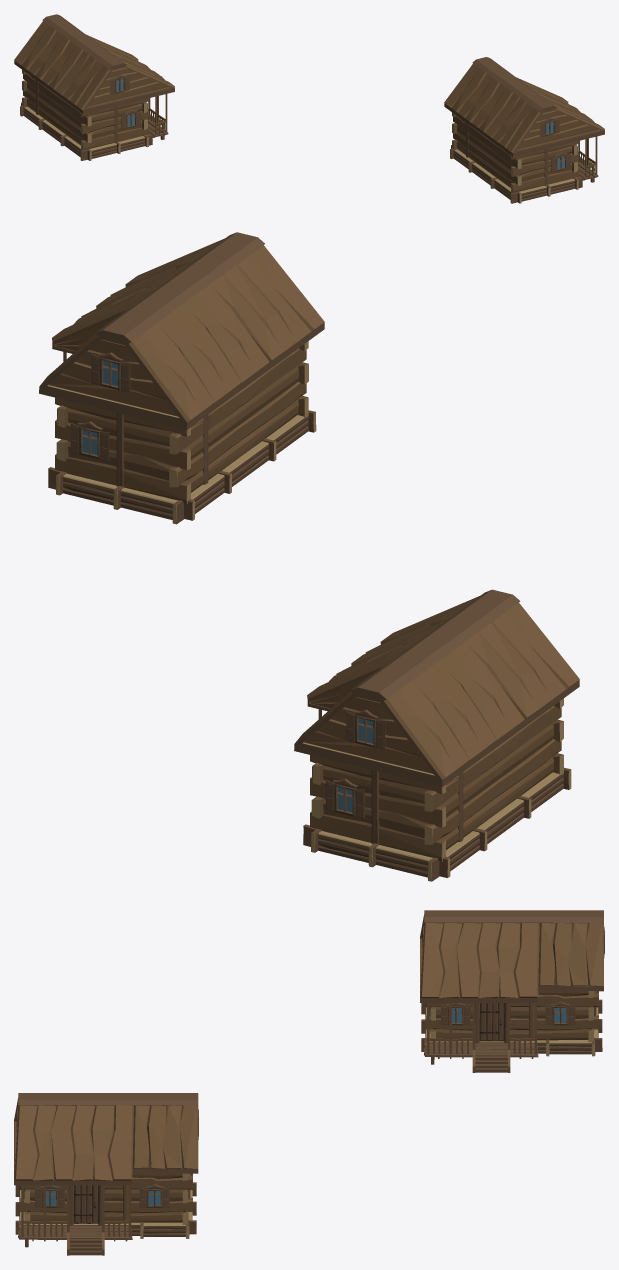
3 views of the same model, one above another, from view 1: azimuth 30°, elevation 25°; view 2: azimuth 150°, elevation 25°; view 3: azimuth 270°, elevation 25° (orthographic). The views are drawn at different scales.
Visible parts, largest first — view 1: Cube031_4 (×2), Cube031 (×2), Cube031_2 (×2); view 2: Cube031_4 (×2), Cube031 (×2), Cube031_2 (×2); view 3: Cube031_4 (×2), Cube031 (×2), Cube031_2 (×2).
Part boxes in pixels (bbox=[...]): Cube031_4 (×2): bbox=[14, 21, 604, 192]; Cube031 (×2): bbox=[14, 14, 604, 203]; Cube031_2 (×2): bbox=[20, 70, 578, 203]; Cube031_4 (×2): bbox=[40, 238, 579, 861]; Cube031 (×2): bbox=[39, 232, 579, 881]; Cube031_2 (×2): bbox=[47, 341, 571, 881]; Cube031_4 (×2): bbox=[14, 918, 603, 1255]; Cube031 (×2): bbox=[14, 910, 604, 1255]; Cube031_2 (×2): bbox=[15, 991, 602, 1238].
Bounding box in the file's own units: 11.91 × 2.67 × 12.
